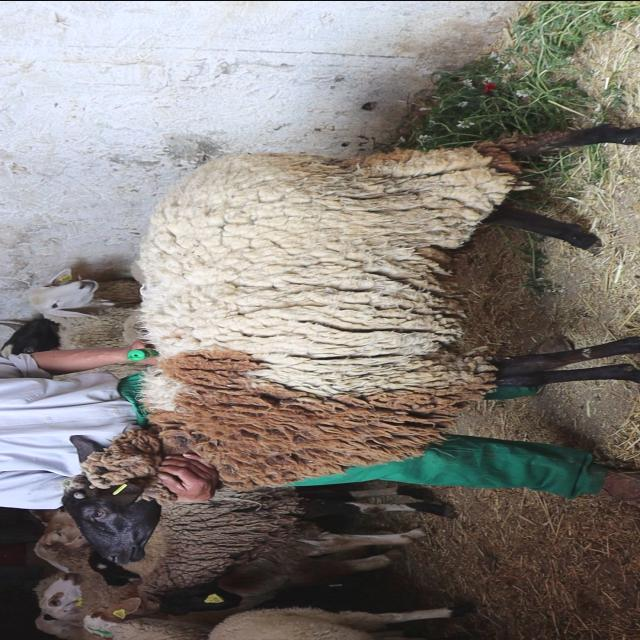Score_5: (62, 124, 639, 564)
